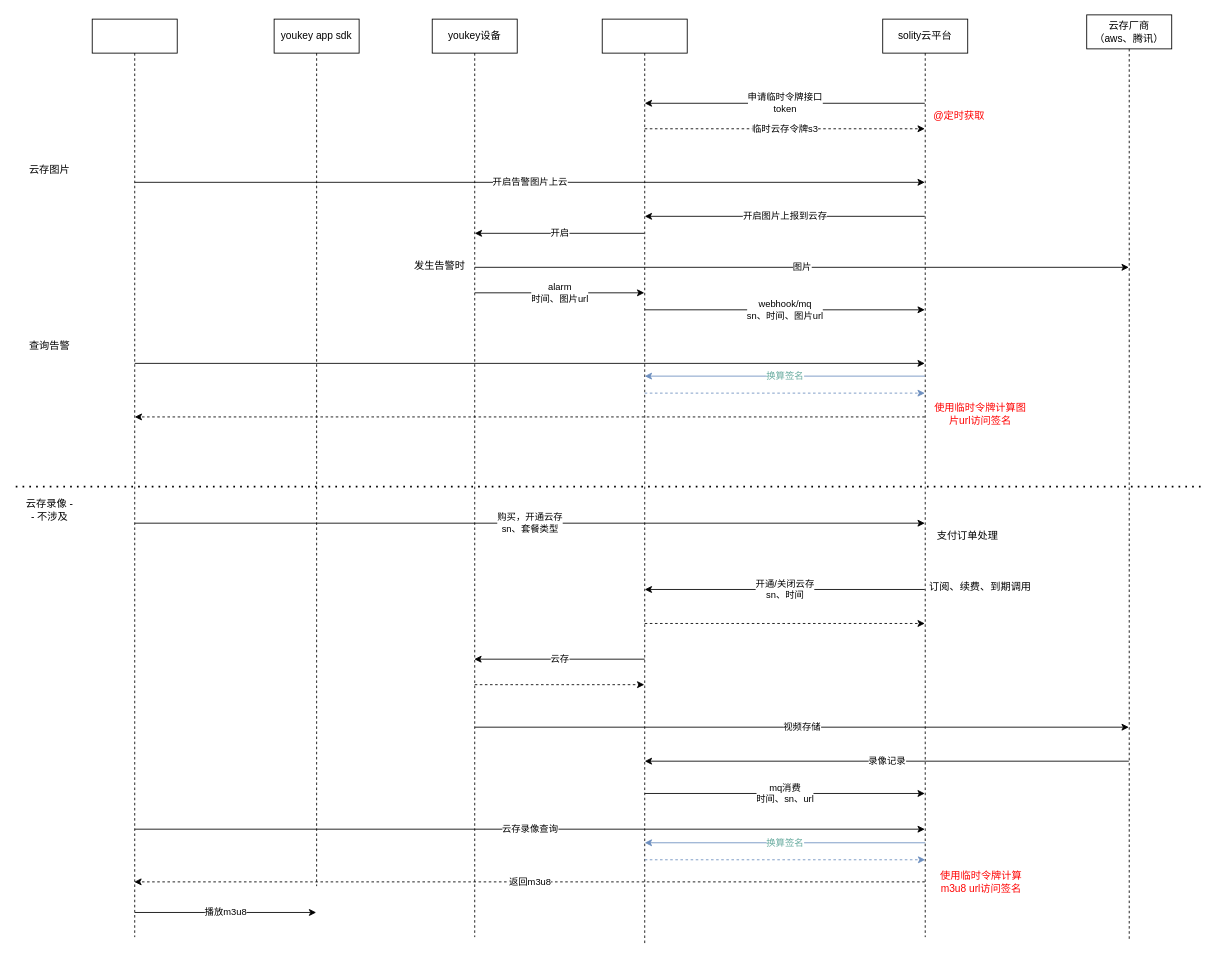
Image size: 1221x961. Some labels were removed from this diagram. Each missing label, with the box of its shape:
solityAPP: (91, 18, 177, 937)
youkey云: (601, 18, 687, 946)
